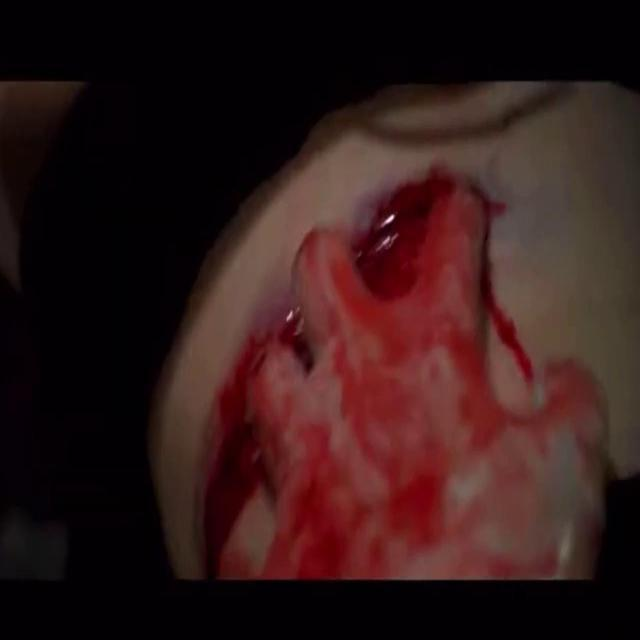flood: (232, 152, 580, 580)
